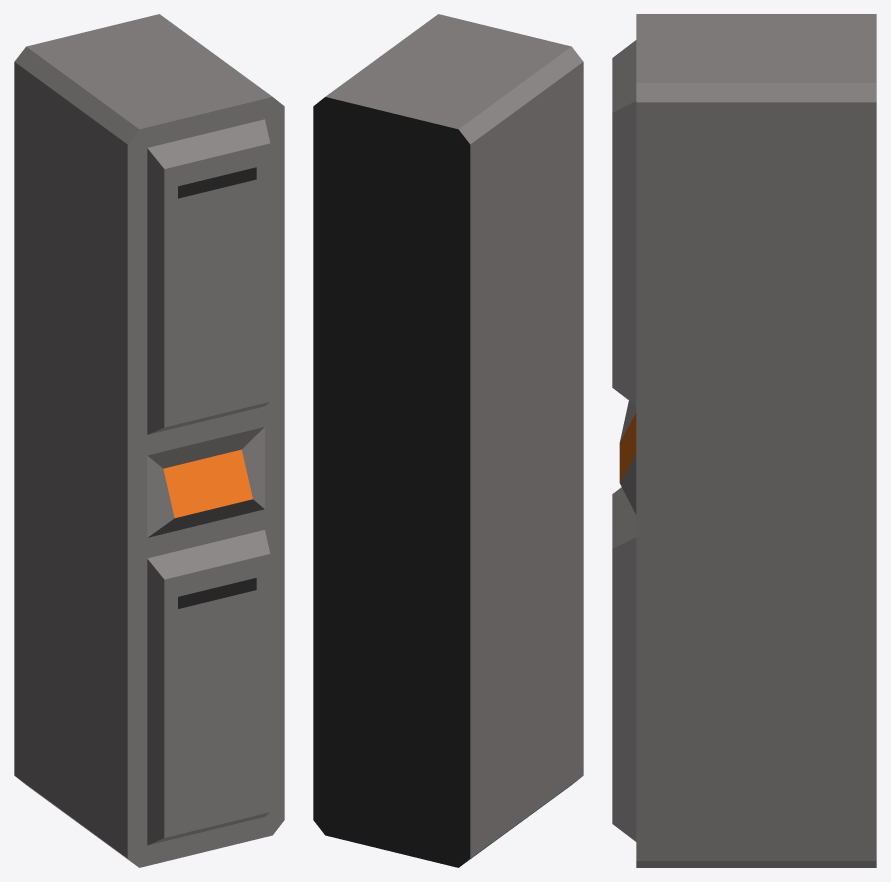
The model's file is scifi-locker.glb.
The picture shows the model from 3 angles, left to right: view 1: azimuth 30°, elevation 25°; view 2: azimuth 150°, elevation 25°; view 3: azimuth 270°, elevation 25°; orthographic projection. The views are drawn at different scales.
Visible parts, largest first — view 1: scifi-locker; view 2: scifi-locker; view 3: scifi-locker.
Part boxes in pixels (<box>): scifi-locker: <box>14,14,284,867</box>; scifi-locker: <box>313,14,583,867</box>; scifi-locker: <box>612,14,876,867</box>.
Bounding box in the file's own units: 0.4 × 1.8 × 0.55.
Materials: 1 (1 with a texture image).
